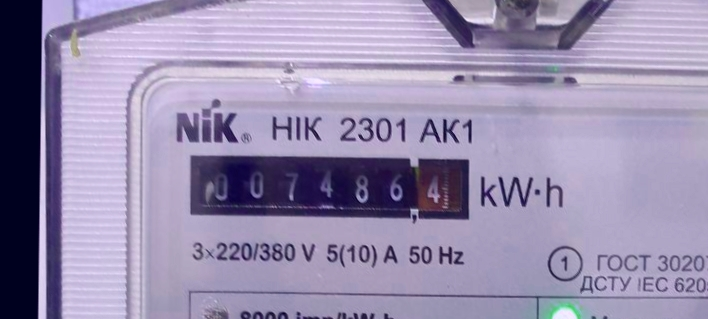0: (208, 170, 229, 205), (245, 169, 264, 202)
4: (314, 167, 333, 202), (422, 173, 440, 207)
6: (385, 173, 405, 205)
7: (277, 170, 301, 203)
8: (351, 173, 369, 208)
screen: (178, 145, 477, 233)
